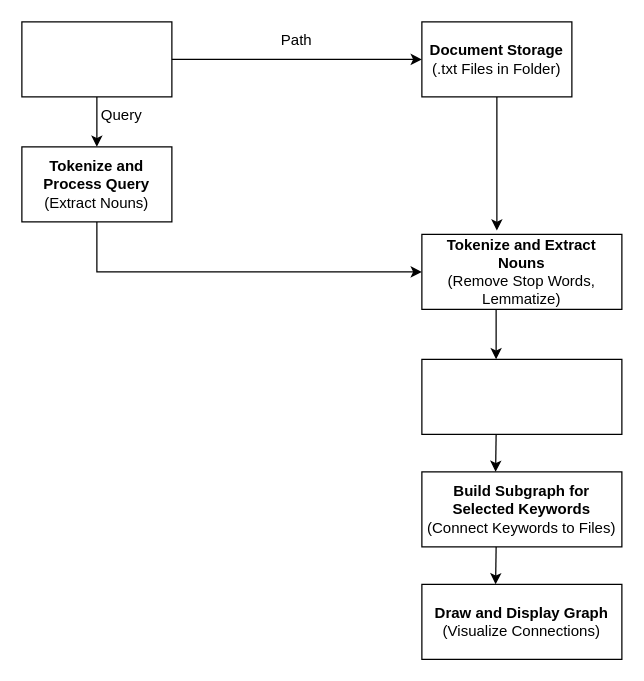
The diagram is 644 pixels wide and 681 high, and some of its shapes have lost their labels. Here are the shapes that lost their labels. From the top down, the box of each, then its label:
(21, 21, 172, 97): User Input (Enter Query & Path)
(421, 358, 622, 434): Build Noun Index (Count Noun Occurrences)
